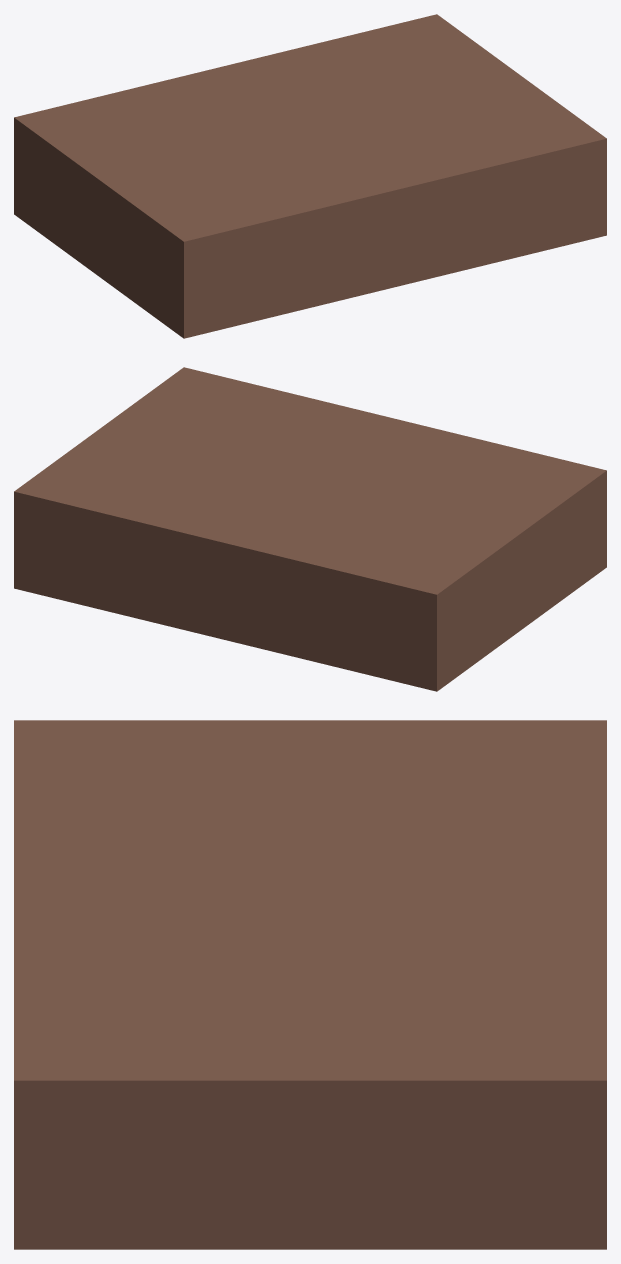
The model's file is trap_box.fbx.
3 renders of one model, top to bottom at view 1: azimuth 30°, elevation 25°; view 2: azimuth 150°, elevation 25°; view 3: azimuth 270°, elevation 25°, orthographic. The views are drawn at different scales.
Parts seen in each view (by area): view 1: Trap_Box, Lid.L, Lid.R; view 2: Trap_Box, Lid.L, Lid.R; view 3: Trap_Box, Lid.L, Lid.R.
Boxes of the visible parts, box(x1,y1,x2,y2) form: Trap_Box: box(14, 14, 606, 338); Lid.L: box(40, 73, 385, 230); Lid.R: box(235, 25, 580, 183); Trap_Box: box(14, 367, 606, 691); Lid.L: box(235, 426, 580, 583); Lid.R: box(40, 378, 385, 536); Trap_Box: box(14, 720, 606, 1249); Lid.L: box(47, 734, 573, 900); Lid.R: box(47, 900, 573, 1066).
Size of the model in its own units: 123 by 26.92 by 85.54.
